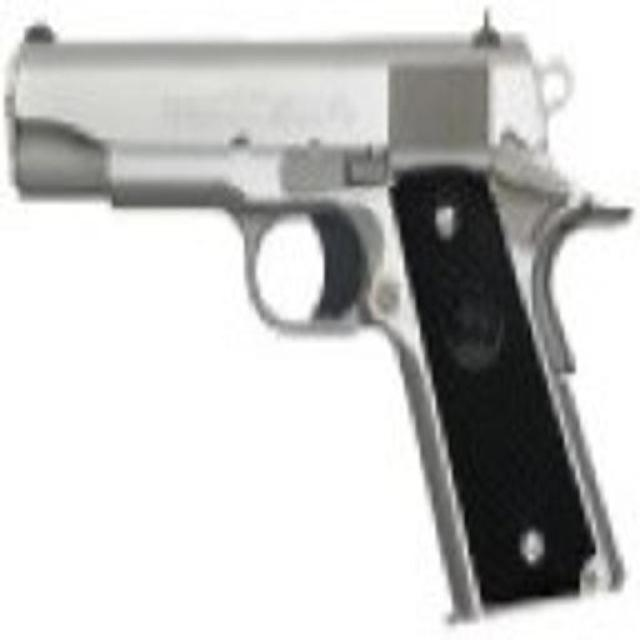pistol: (11, 15, 627, 624)
